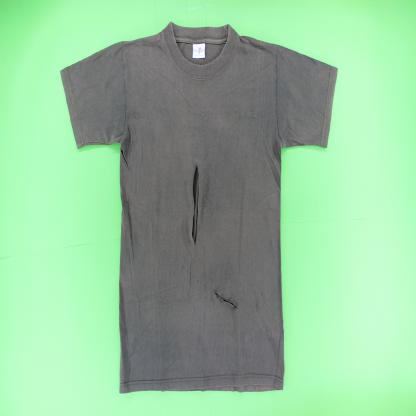hole: (190, 156, 202, 246), (213, 291, 239, 311)
